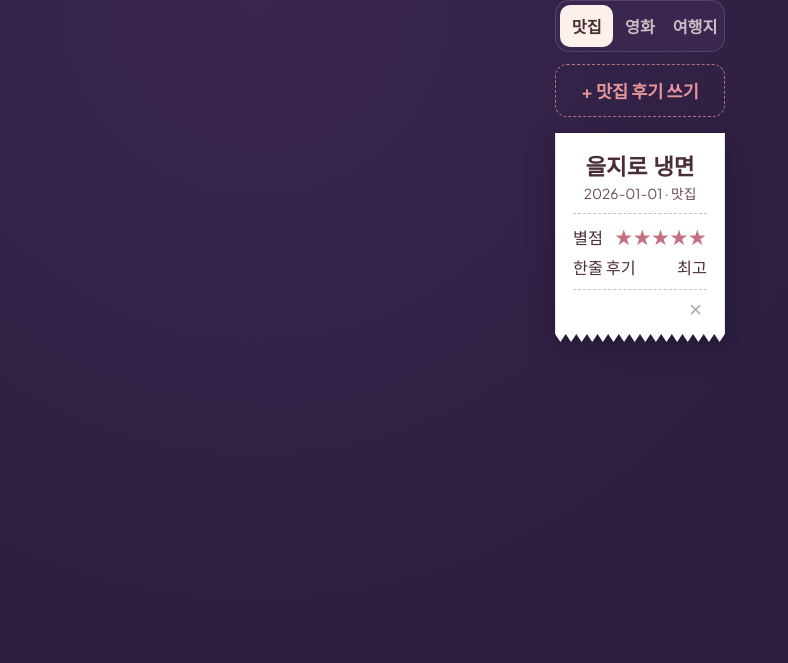
Archive › shows an error message when adding fails
Click the button "+ 맛집 후기 쓰기": (640, 90) [555,64,725,117]
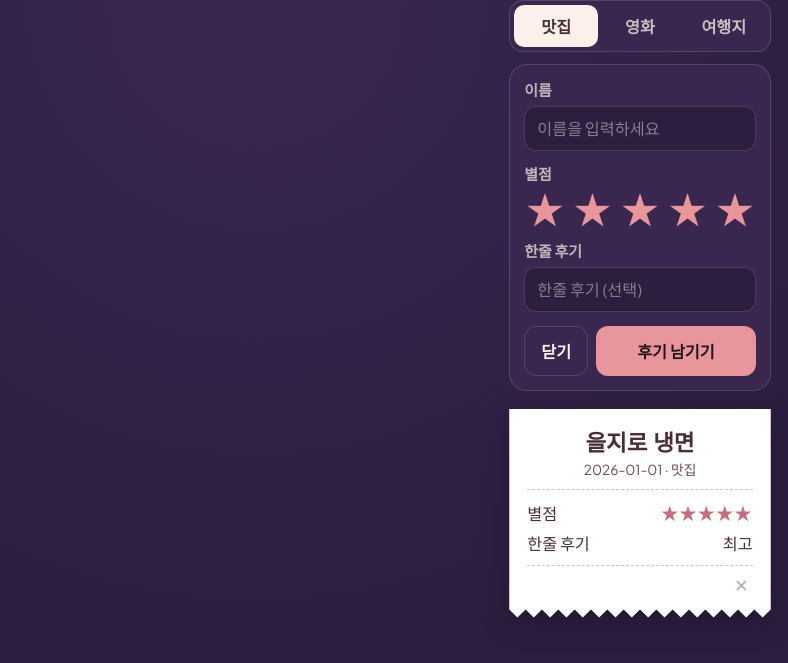
In the field with placeholder "이름을 입력하세요": (640, 128) [524,106,756,151], type "새 맛집"
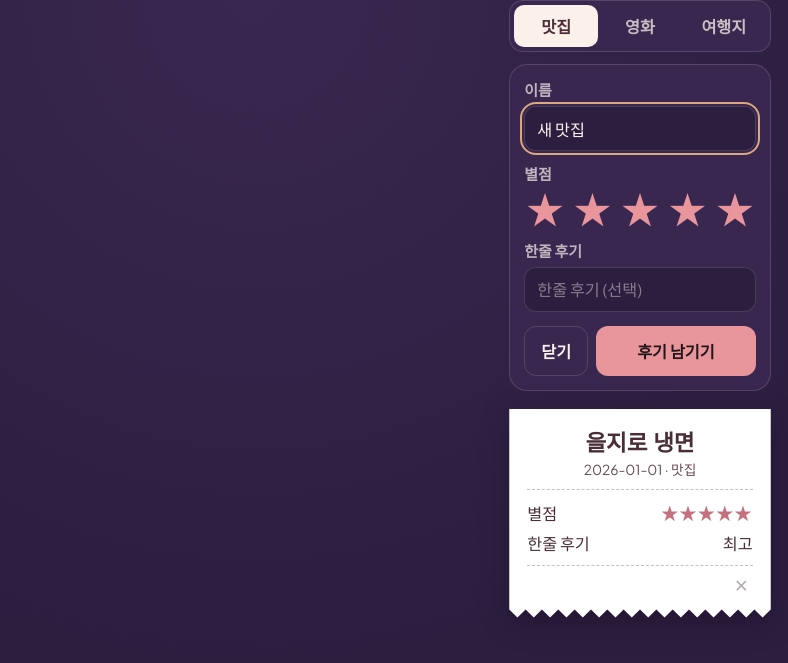
Click the button "후기 남기기": (676, 350) [596,326,756,376]
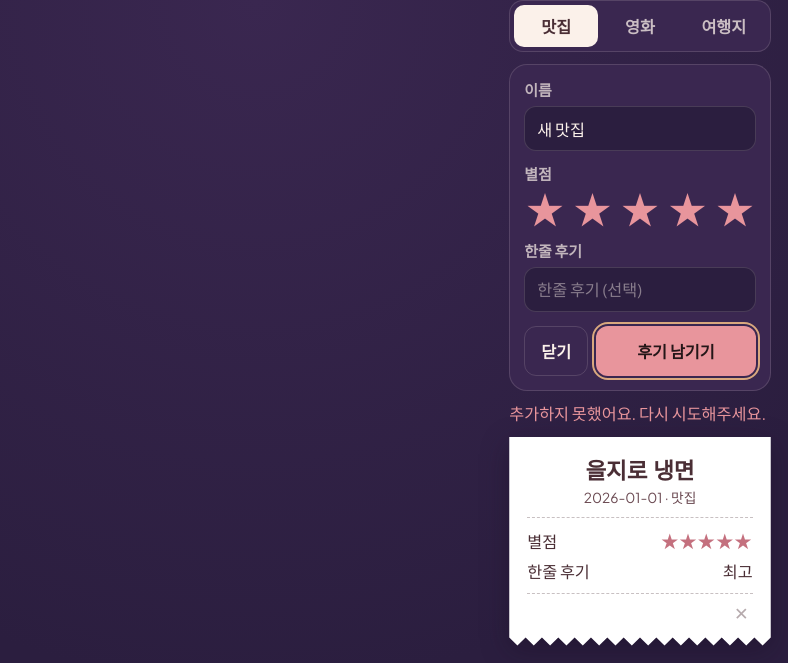
Expected: the text "추가하지 못했어요. 다시 시도해주세요." is shown, [509,400,771,424]
